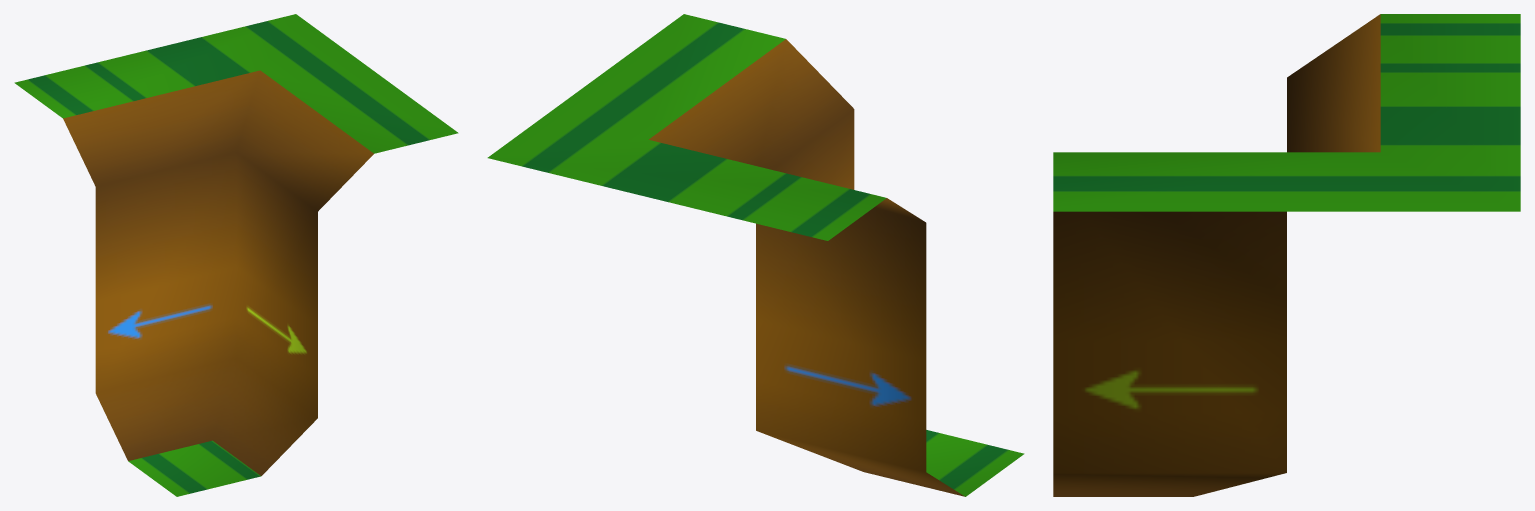
Rendered from corner1_2.FBX.
3 renders of one model, left to right at view 1: azimuth 30°, elevation 25°; view 2: azimuth 150°, elevation 25°; view 3: azimuth 270°, elevation 25°, orthographic. The views are drawn at different scales.
Parts seen in each view (by area): view 1: wall019; view 2: wall019; view 3: wall019.
Boxes of the visible parts, box(x1,y1,x2,y2) form: wall019: box(14, 14, 458, 496); wall019: box(487, 14, 1024, 496); wall019: box(1053, 14, 1520, 496).
Size of the model in its own units: 100 by 100 by 100.
Materials: 2 (2 with a texture image).
